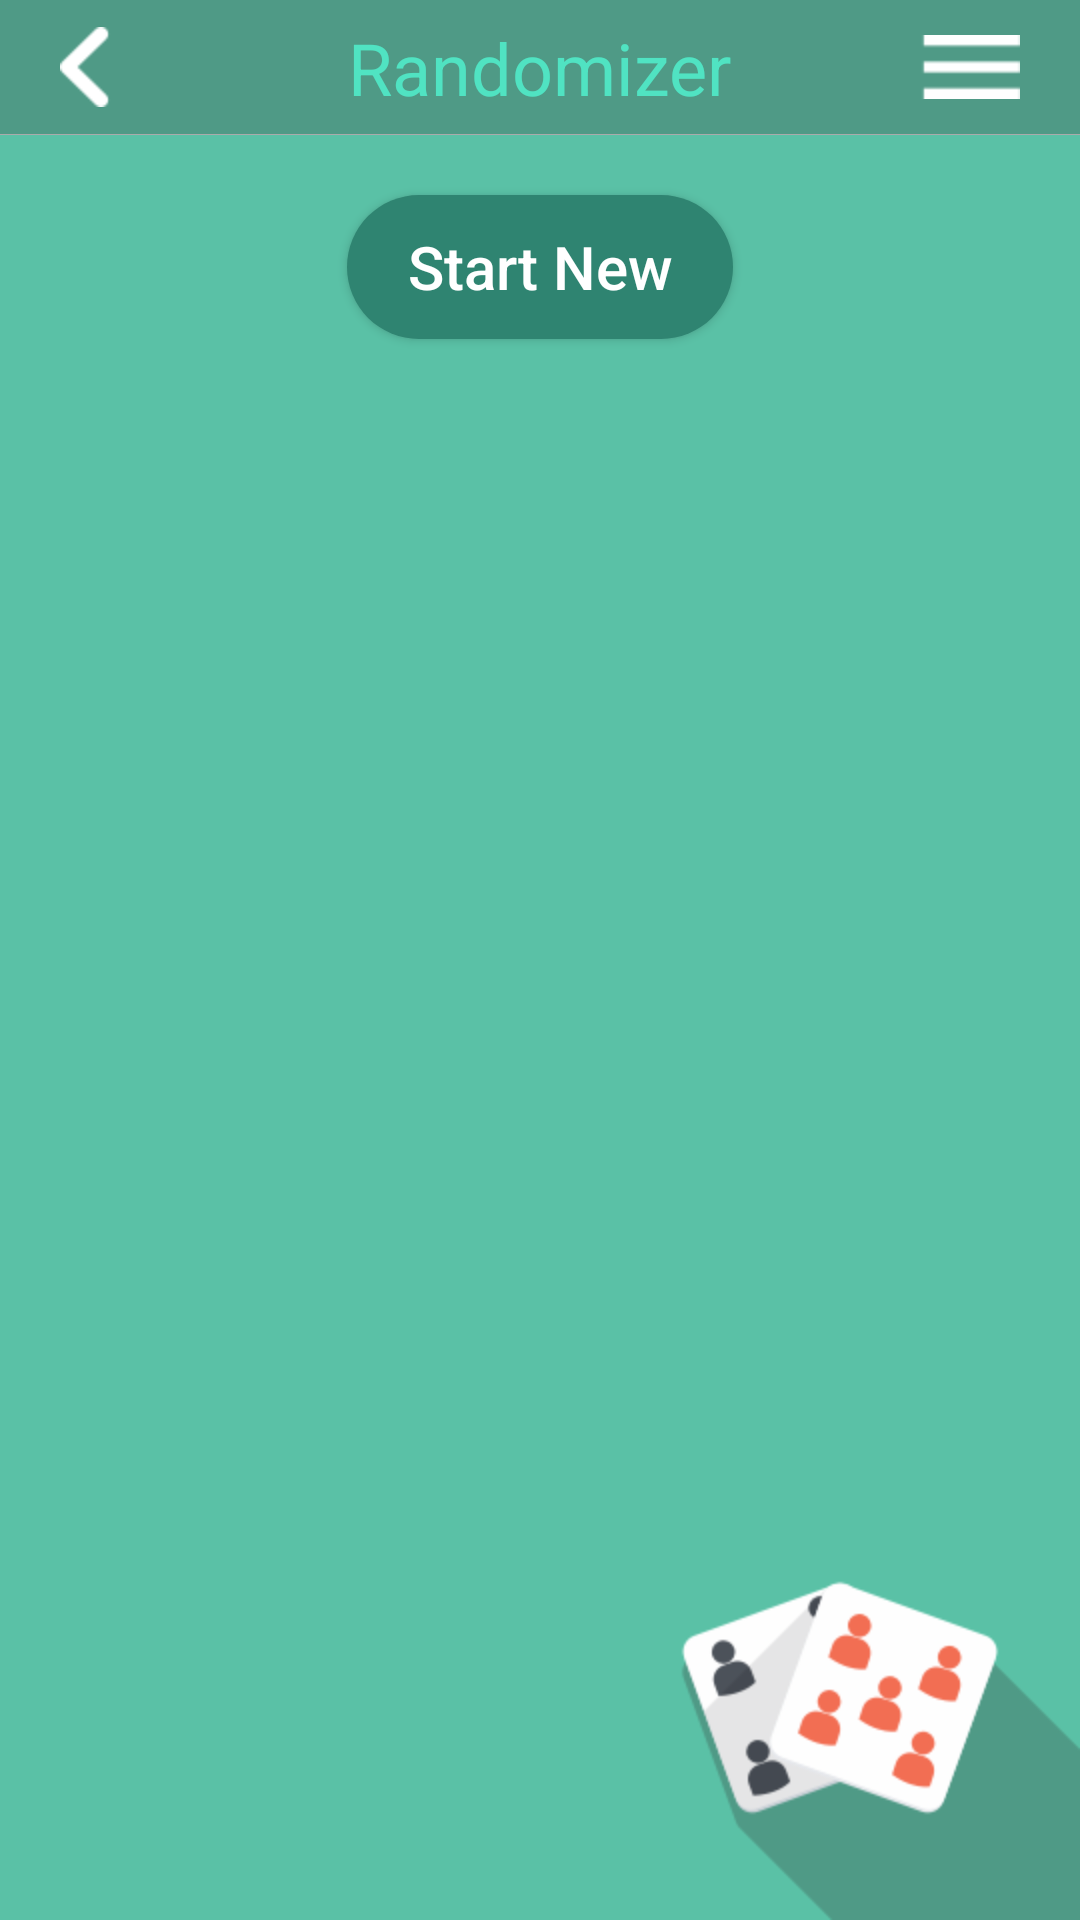

Where to tap for icons on this 1080px×1920px app screen, as (x,y):
back: (84,67)
menu: (971,67)
